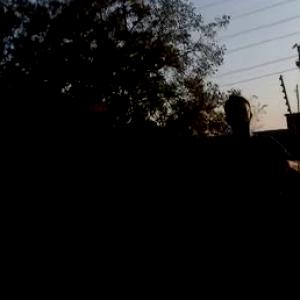follow: (210, 92, 300, 299)
